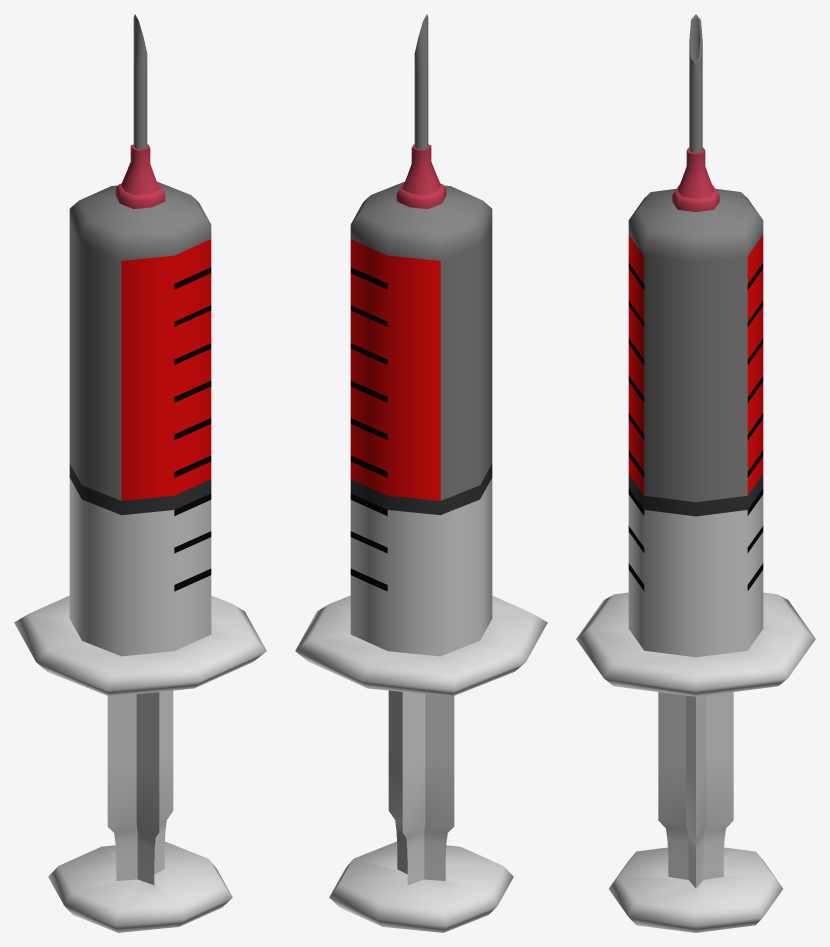
File: Şırınga.fbx
The picture shows the model from 3 angles, left to right: view 1: azimuth 30°, elevation 25°; view 2: azimuth 150°, elevation 25°; view 3: azimuth 270°, elevation 25°; orthographic projection.
Visible parts, largest first — view 1: Şırınga; view 2: Şırınga; view 3: Şırınga.
Boxes of the visible parts, x1,y1,x2,y2 form: Şırınga: (14,14,266,932); Şırınga: (295,14,547,932); Şırınga: (576,14,815,932).
Bounding box in the file's own units: 17.91 × 72.63 × 17.87.
